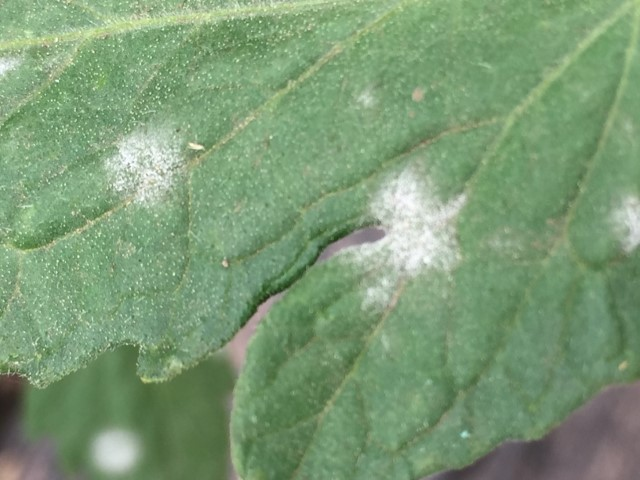oidio: (337, 162, 469, 310), (104, 121, 188, 207), (609, 193, 640, 257), (476, 229, 526, 260), (1, 54, 21, 82), (355, 85, 377, 107)
